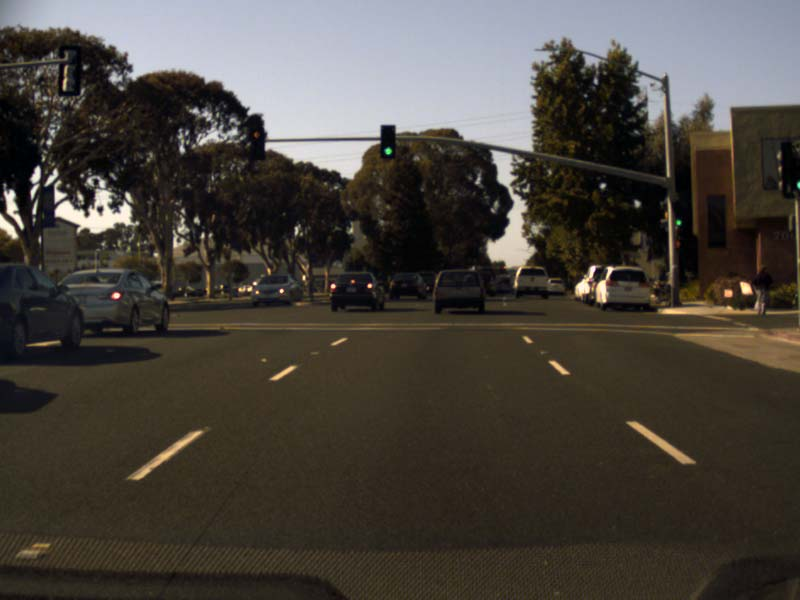Green: (380, 124, 395, 158), (673, 201, 683, 226)
Red: (250, 128, 265, 160)
